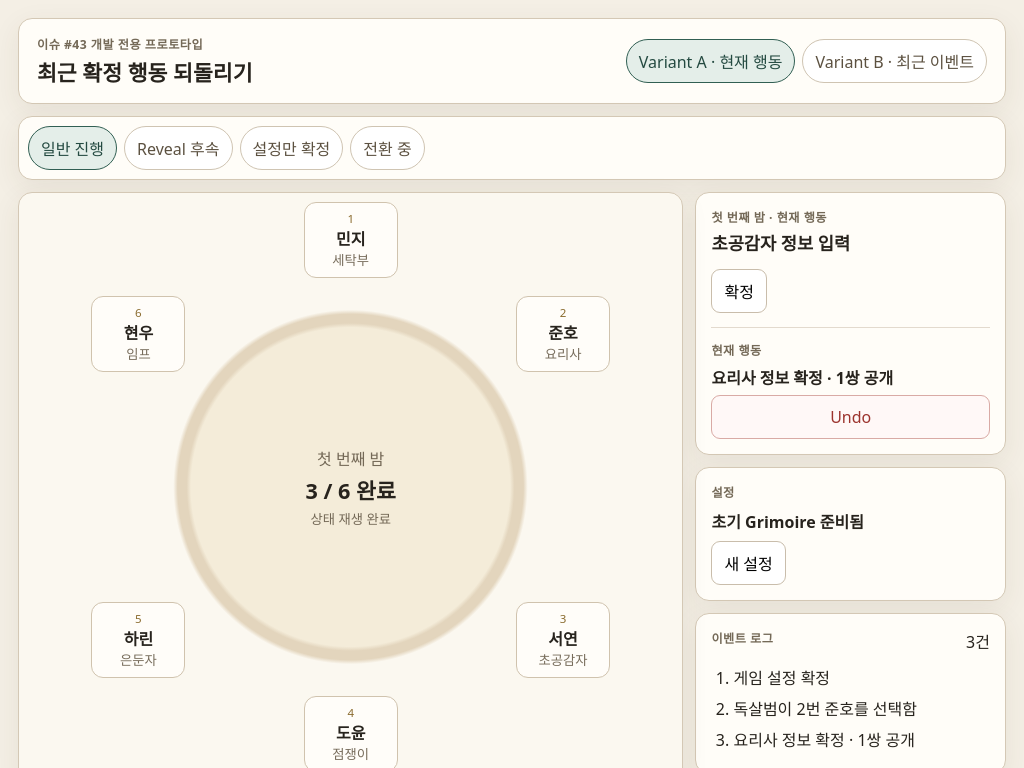
Test case: mock confirmation removes only the latest item and returns to replayed prior state
This screenshot has width=1024, height=768.
Click the button "Undo": point(851, 417) [712,395,990,439]
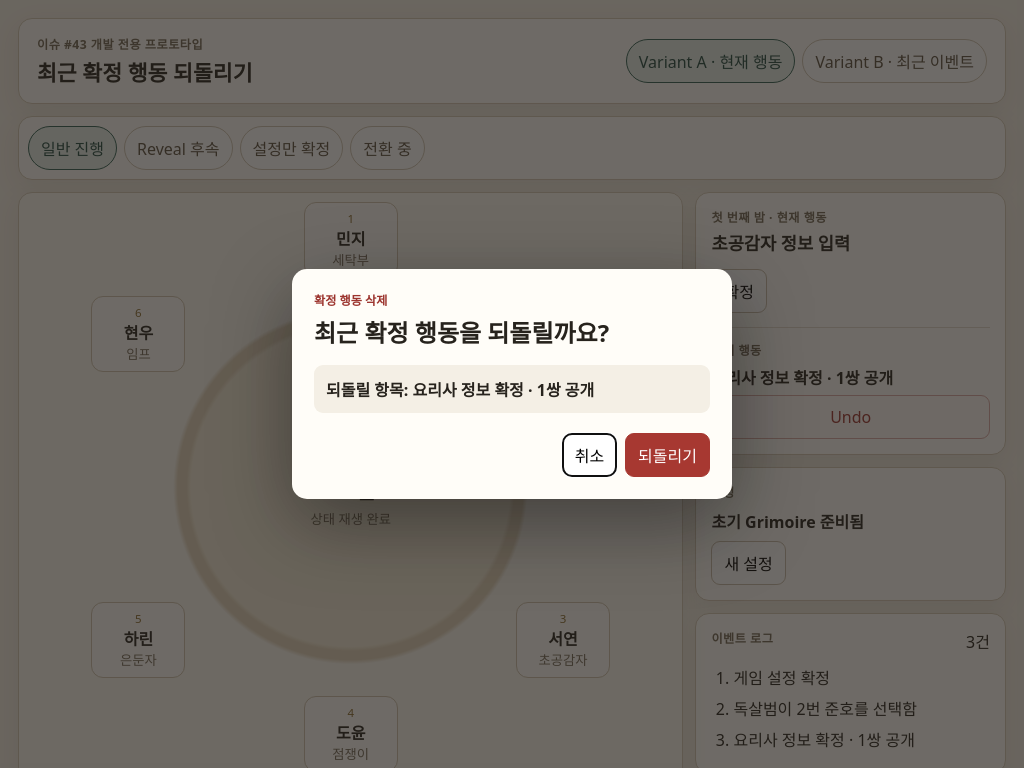
Click the button "되돌리기": point(668, 455) [625,433,710,477]
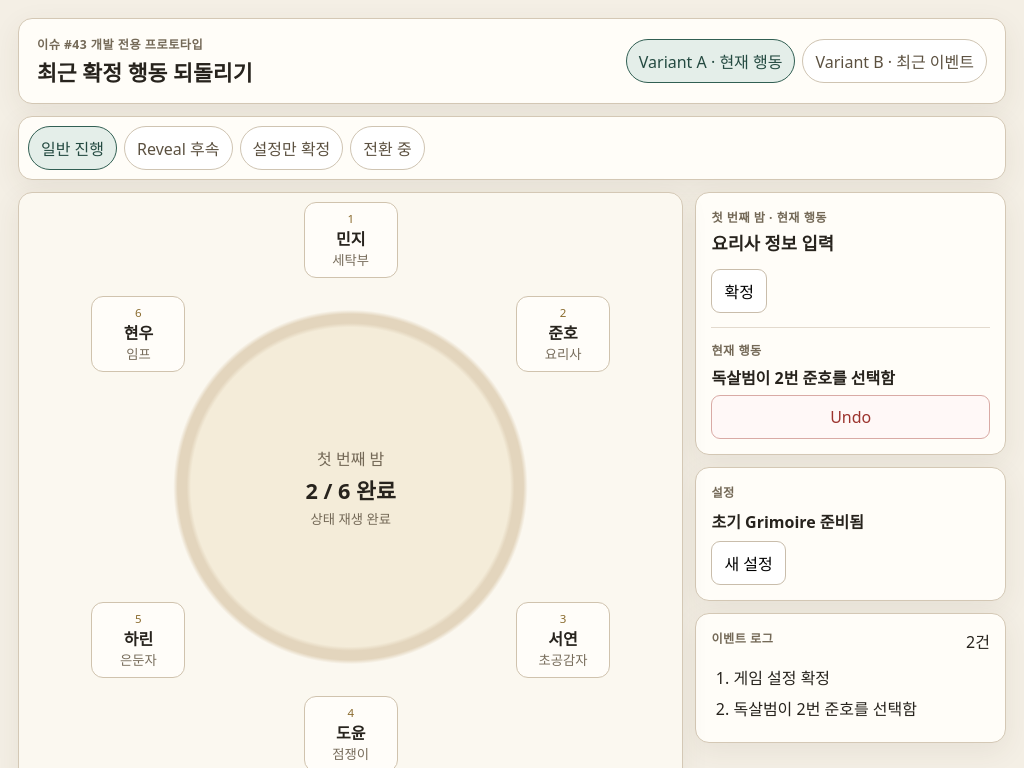
Expected: the text "요리사 정보 확정 · 1쌍 공개" is gone
Expected: the text "독살범이 2번 준호를 선택함" is shown, [712,367,895,389]
Expected: the heading "요리사 정보 입력" is shown, [712,231,834,255]
